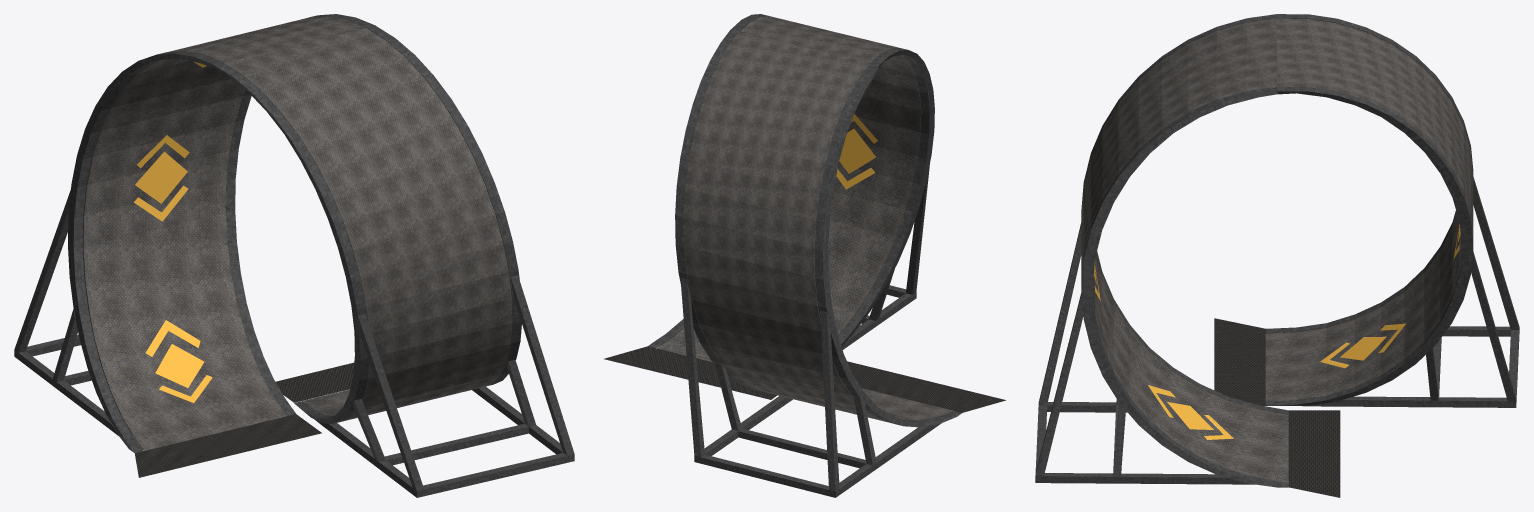
File: Loop 1.fbx
3 renders of one model, left to right at view 1: azimuth 30°, elevation 25°; view 2: azimuth 150°, elevation 25°; view 3: azimuth 270°, elevation 25°, orthographic. The views are drawn at different scales.
Parts seen in each view (by area): view 1: Loop, Body 01, Body, Ramp, Yellow arrow; view 2: Loop, Body 01, Body, Ramp, Yellow arrow; view 3: Loop, Body 01, Body, Ramp, Yellow arrow.
Part boxes in pixels (<box>): Loop: <box>82,16,512,450</box>; Body 01: <box>68,14,521,452</box>; Body: <box>14,189,574,497</box>; Ramp: <box>134,362,354,477</box>; Yellow arrow: <box>133,61,212,402</box>; Loop: <box>657,16,953,423</box>; Body 01: <box>648,14,961,427</box>; Body: <box>680,160,941,497</box>; Ramp: <box>604,346,1005,412</box>; Yellow arrow: <box>836,114,877,189</box>; Loop: <box>1081,18,1473,482</box>; Body 01: <box>1081,14,1473,487</box>; Body: <box>1035,177,1519,484</box>; Ramp: <box>1214,318,1340,497</box>; Yellow arrow: <box>1093,224,1460,439</box>.
Size of the model in its own units: 1658 by 1528 by 1884.
